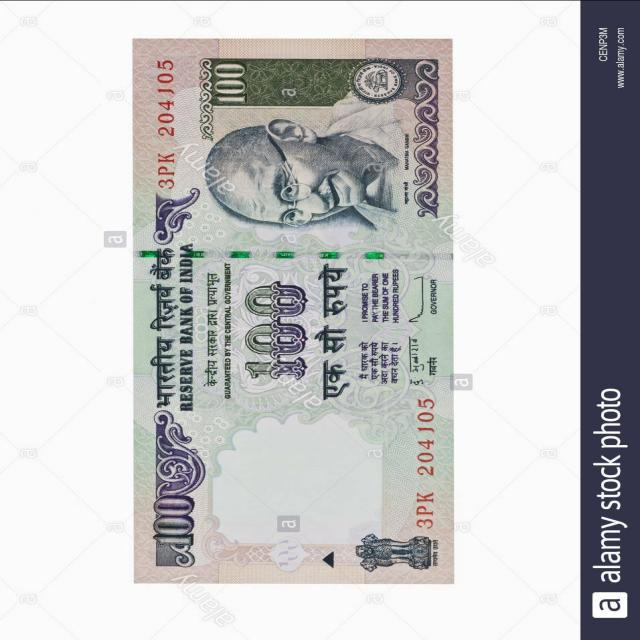100IndianRupees: (133, 41, 450, 585)
